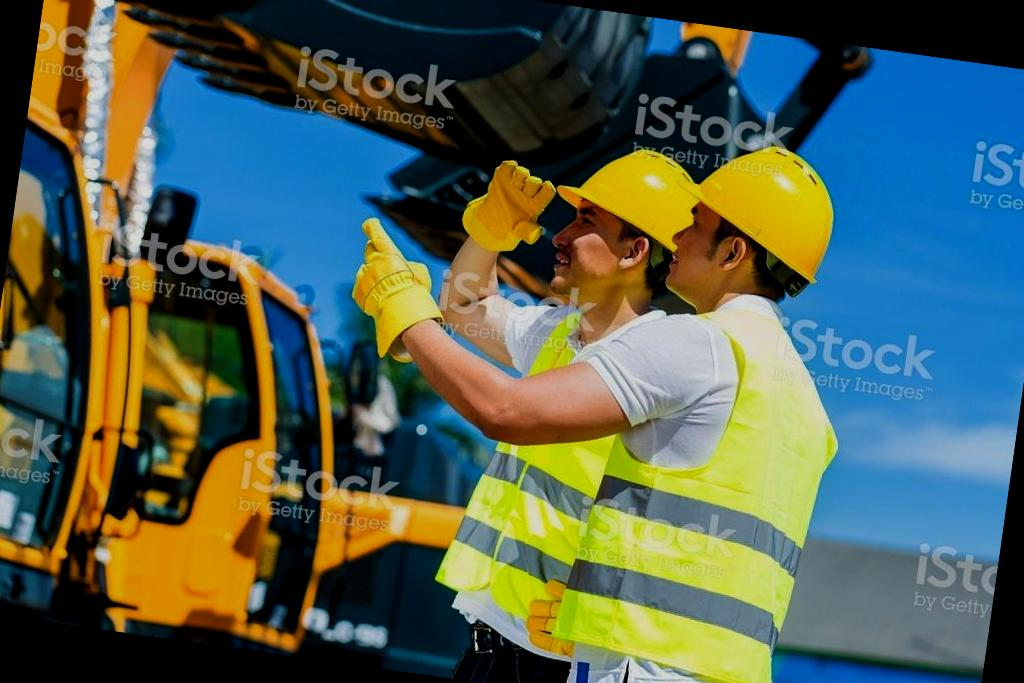helmet: (664, 130, 850, 288), (550, 130, 696, 256)
person: (595, 129, 868, 683), (420, 119, 681, 683)
